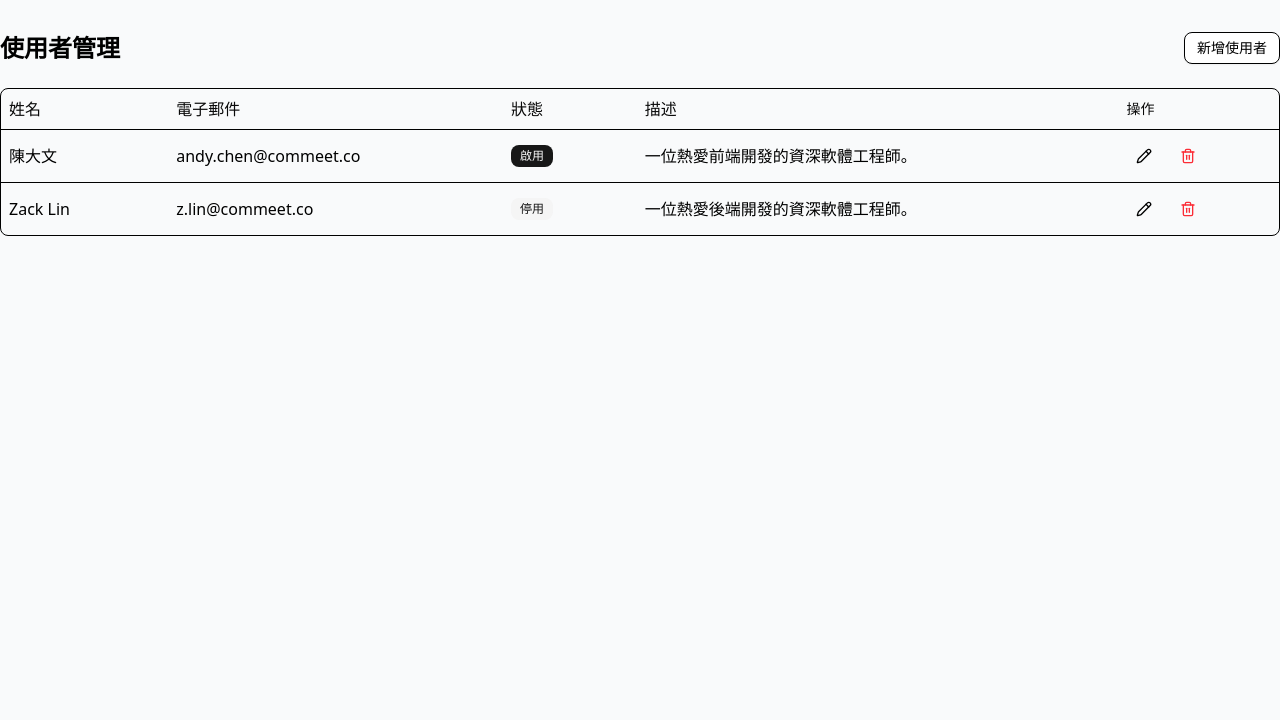
Test: UserTable › can open the edit user form
This screenshot has width=1280, height=720.
Note: Find and click the first edit button
What coordinates should you click on to do the following:
click the button with test id "edit-user-\\d+-button"
I would click on:
 (1144, 156)
Its box is [1126,138,1162,174].
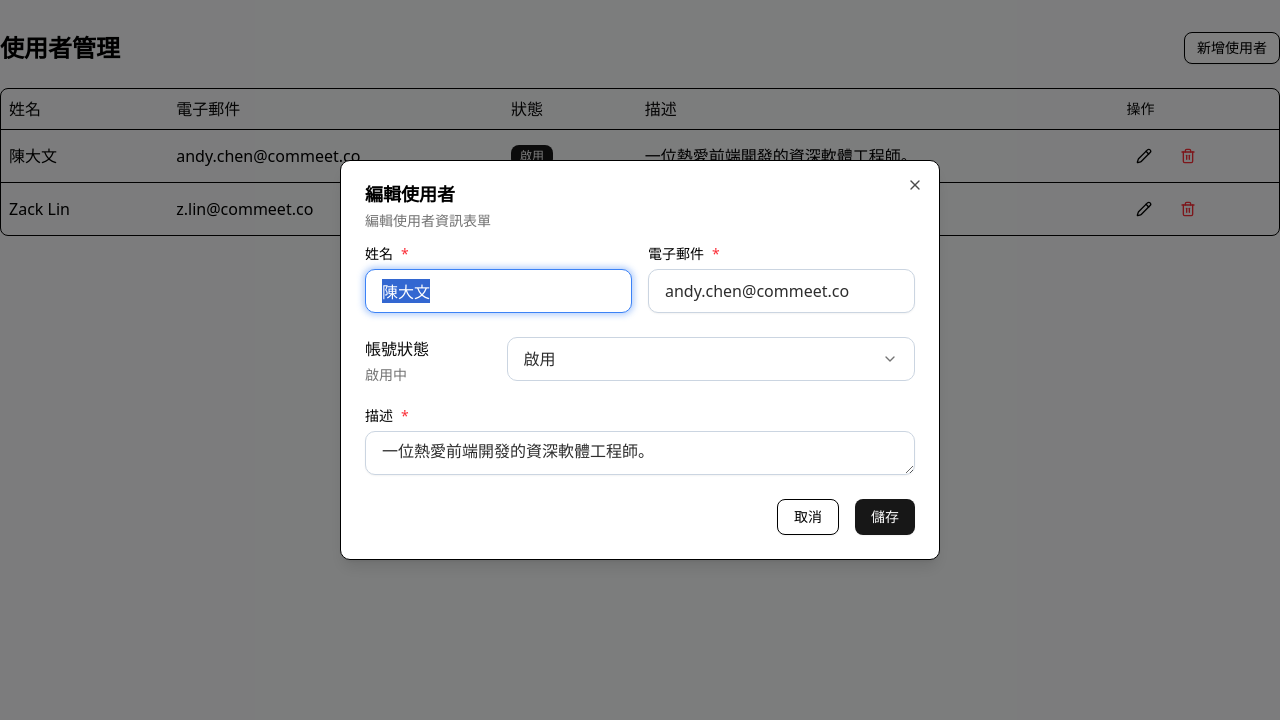
Expected: the form with test id "user-form" is shown, [365,247,915,535]
